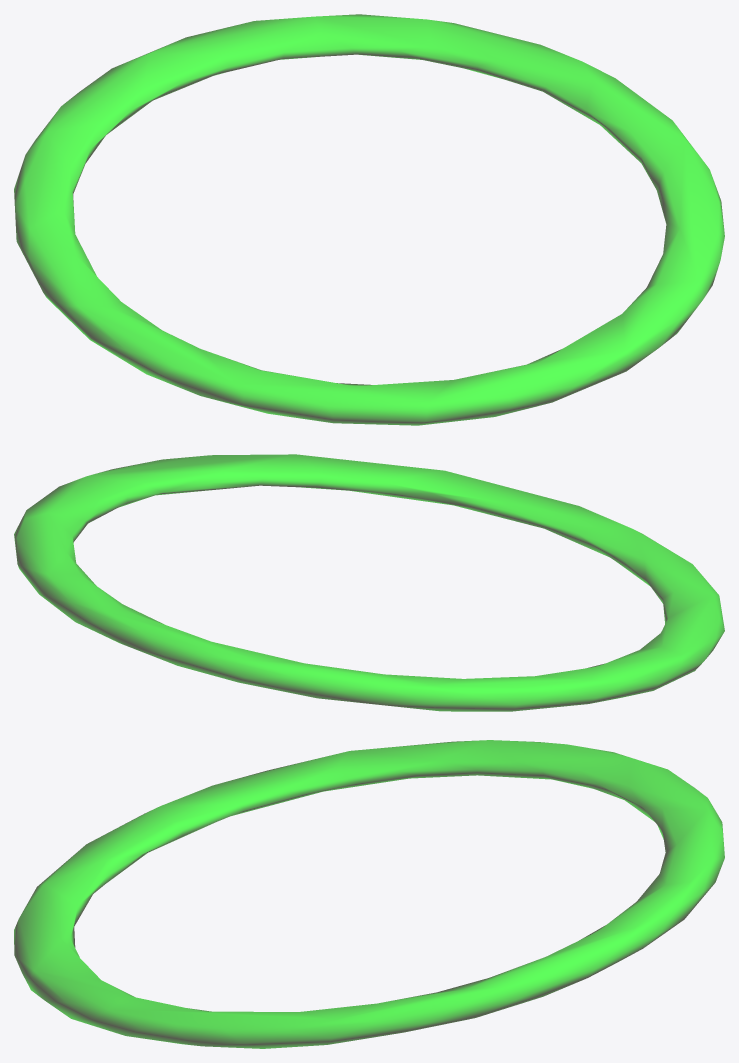
File: Planet_Acc_Ring_Low.fbx
The picture shows the model from 3 angles, top to bottom: view 1: azimuth 30°, elevation 25°; view 2: azimuth 150°, elevation 25°; view 3: azimuth 270°, elevation 25°; orthographic projection.
Visible parts, largest first — view 1: Ring1Low; view 2: Ring1Low; view 3: Ring1Low.
Boxes of the visible parts, left/top/right/bottom form: Ring1Low: left=14, top=14, right=724, bottom=425; Ring1Low: left=14, top=454, right=724, bottom=711; Ring1Low: left=14, top=740, right=724, bottom=1048.
Size of the model in its own units: 3.26 by 0.626 by 3.23.
